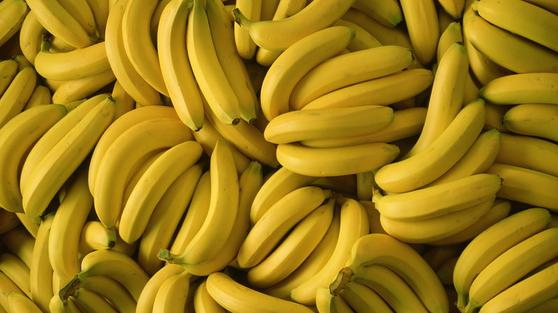banana: (155, 1, 208, 132), (258, 100, 398, 147), (237, 5, 358, 43)
